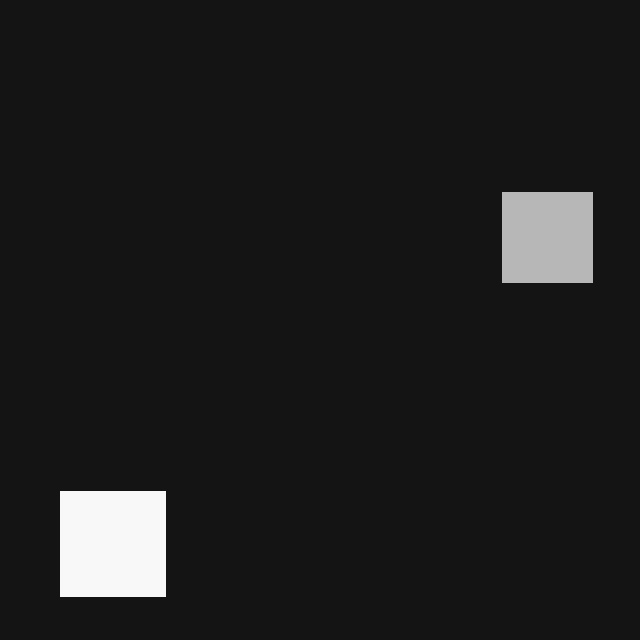square: (60, 491, 165, 596), (502, 192, 592, 282)
